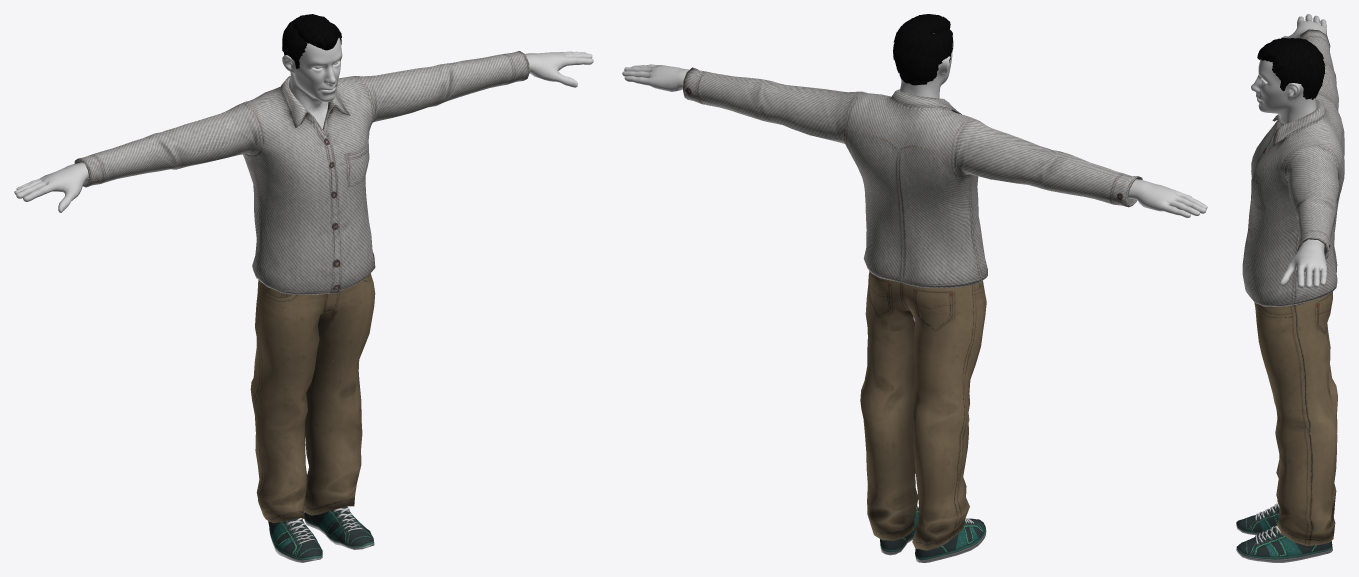
Rendered from twelvth_clothes_hair.obj.
3 views of the same model, side by side, from view 1: azimuth 30°, elevation 25°; view 2: azimuth 150°, elevation 25°; view 3: azimuth 270°, elevation 25° (orthographic). The views are drawn at different scales.
Visible parts, largest first — view 1: Tops, Bottoms, Body, Shoes, Hair; view 2: Tops, Bottoms, Body, Hair, Shoes; view 3: Tops, Bottoms, Body, Shoes, Hair.
Part boxes in pixels (x1,y1,x2,y2): Tops: (74,51,529,294); Bottoms: (250,273,375,523); Body: (14,37,593,360); Shoes: (268,506,374,562); Hair: (282,14,341,68); Tops: (683,67,1142,288); Bottoms: (860,271,986,550); Body: (622,33,1207,321); Hair: (893,14,952,85); Shoes: (880,506,986,562); Tops: (1242,29,1344,307); Bottoms: (1254,292,1337,545); Body: (1251,14,1326,288); Shoes: (1236,503,1332,562); Hair: (1257,38,1325,99).
Bounding box in the file's own units: 21.36 × 18.44 × 3.6.
